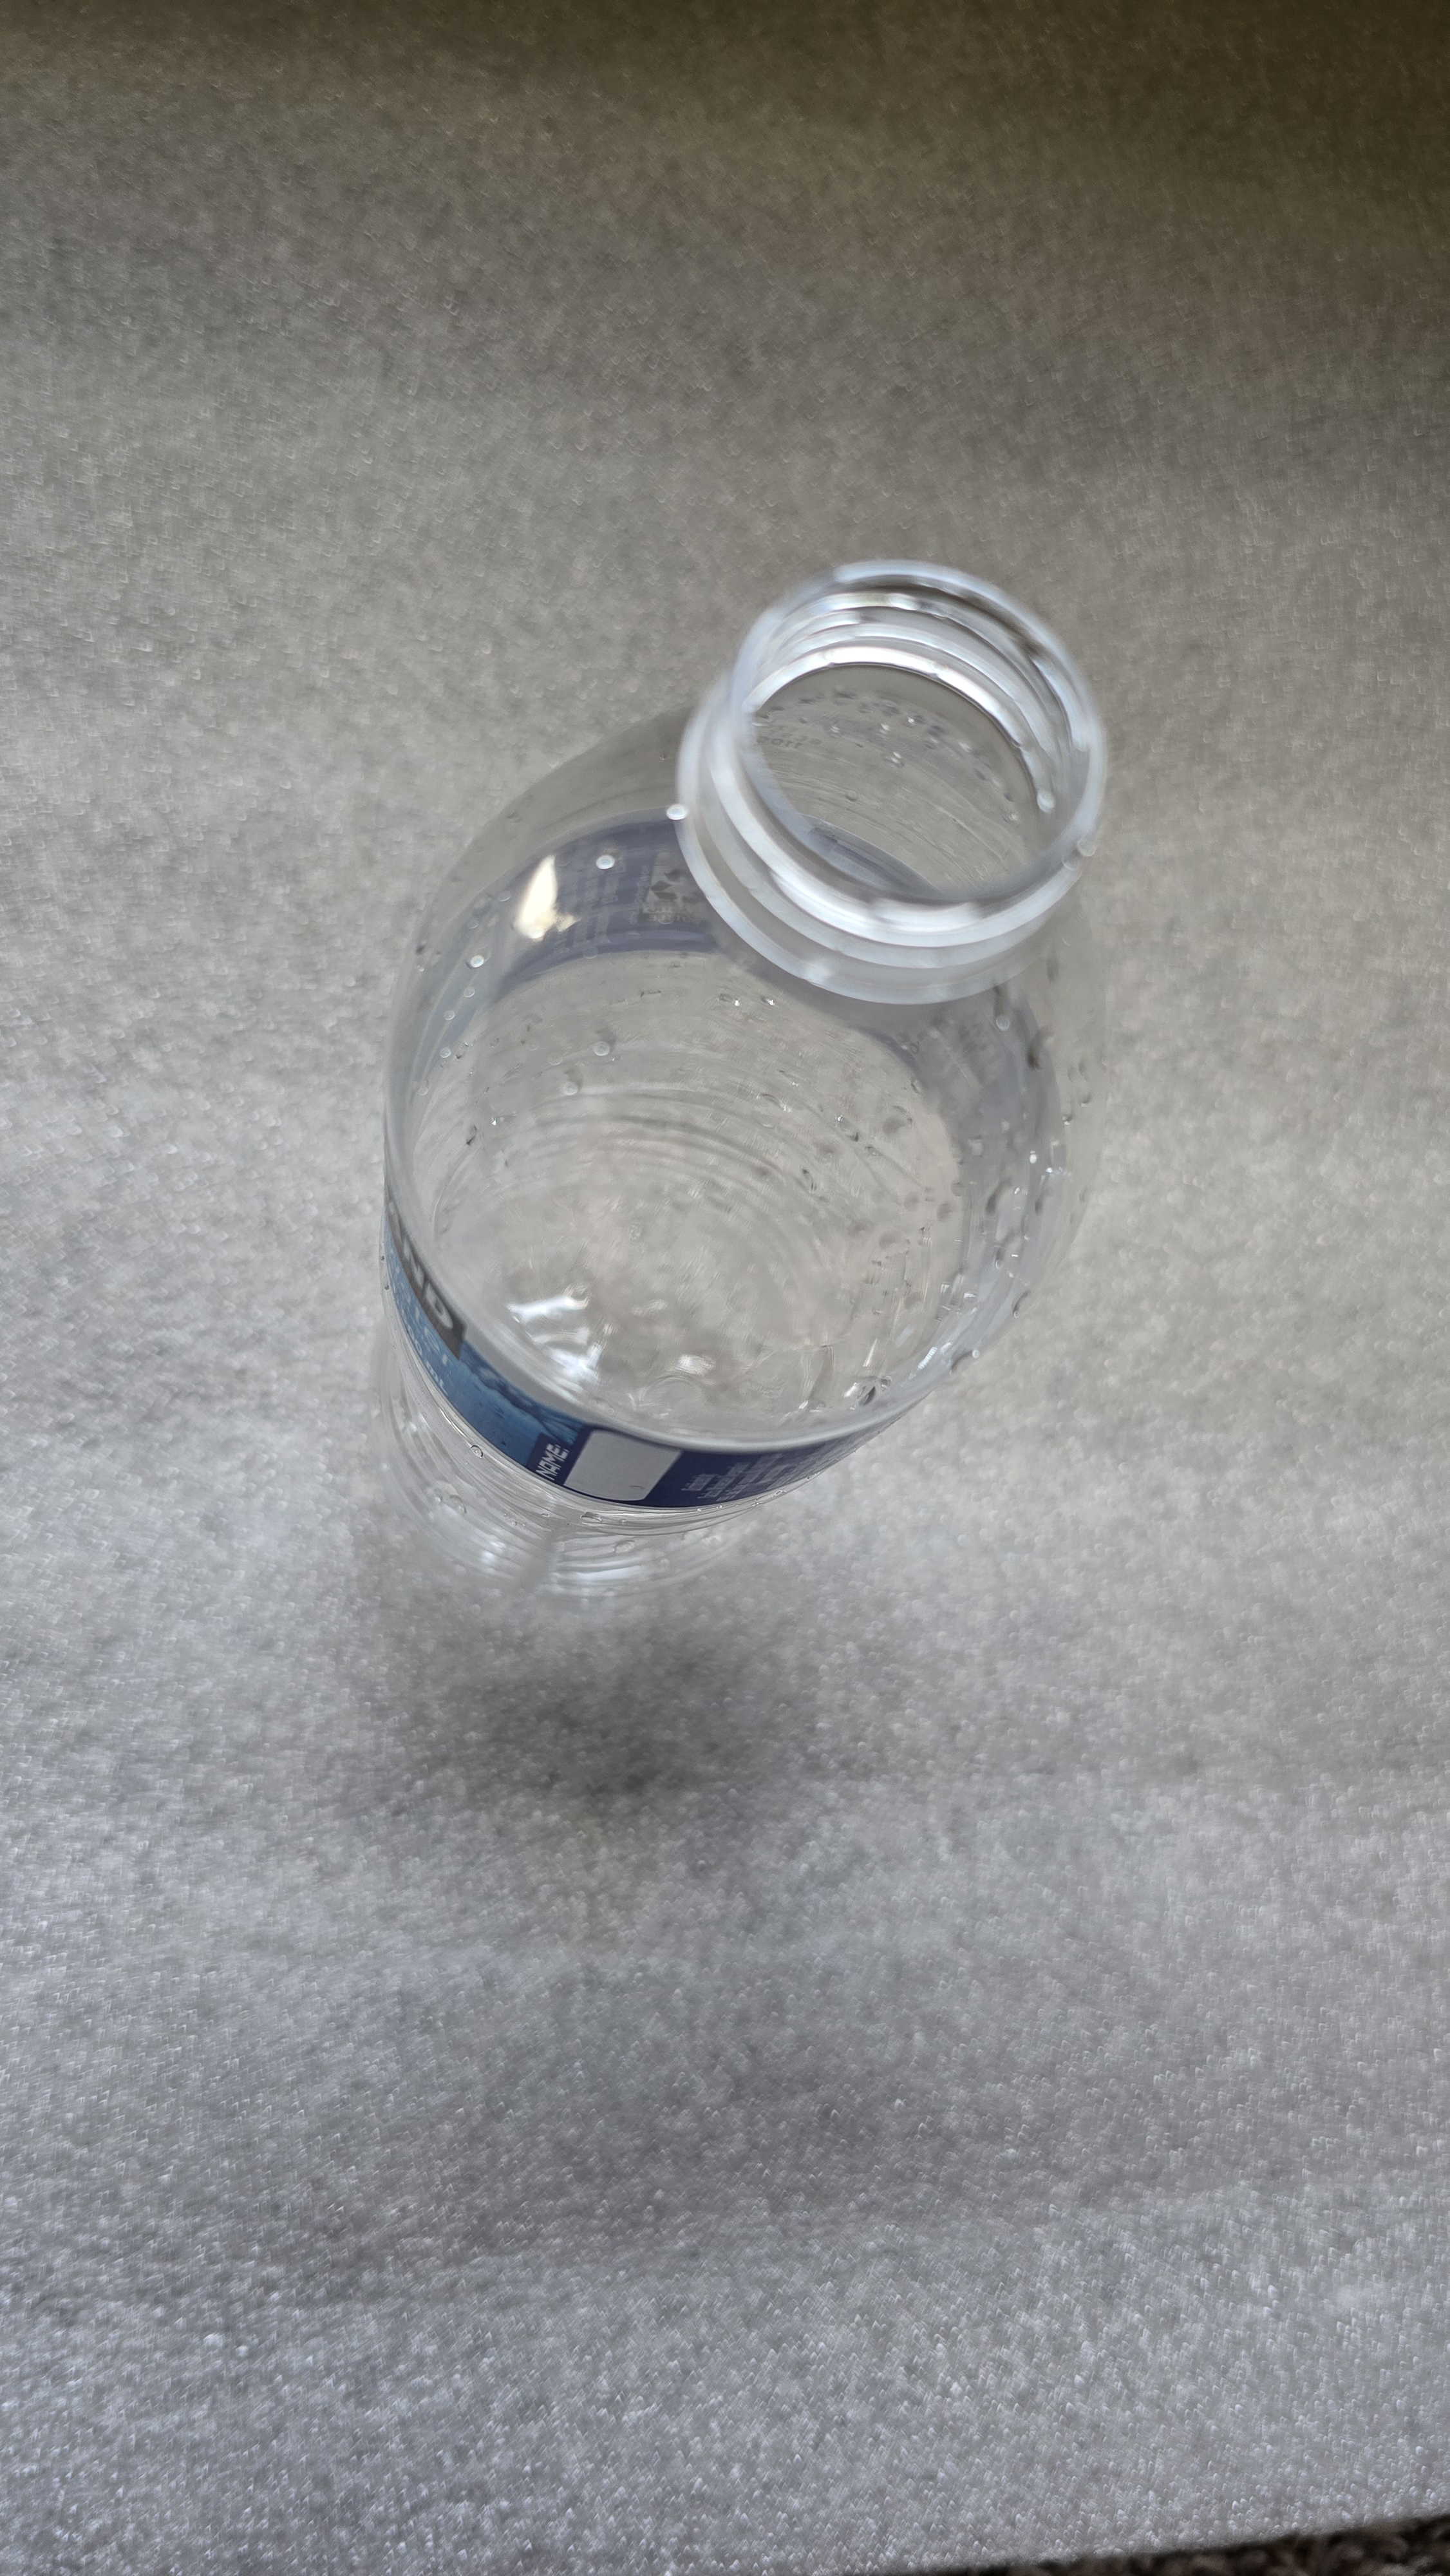bottle: (364, 518, 1139, 1652)
